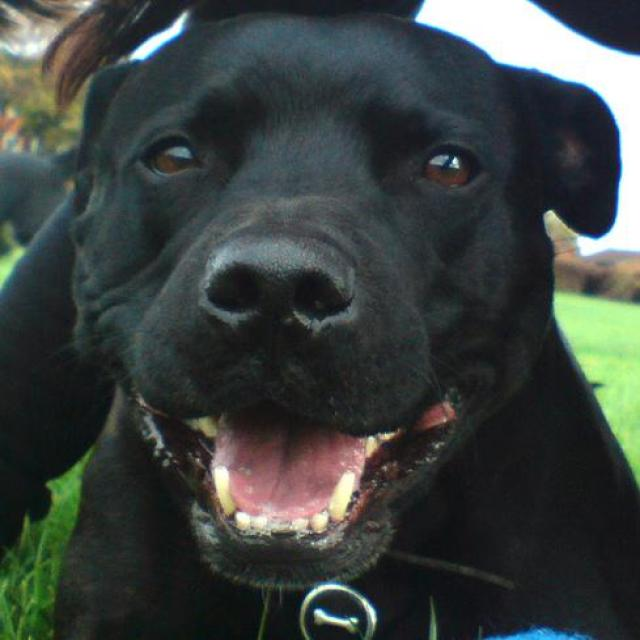staffordshire_bullterrier: (43, 8, 638, 638)
